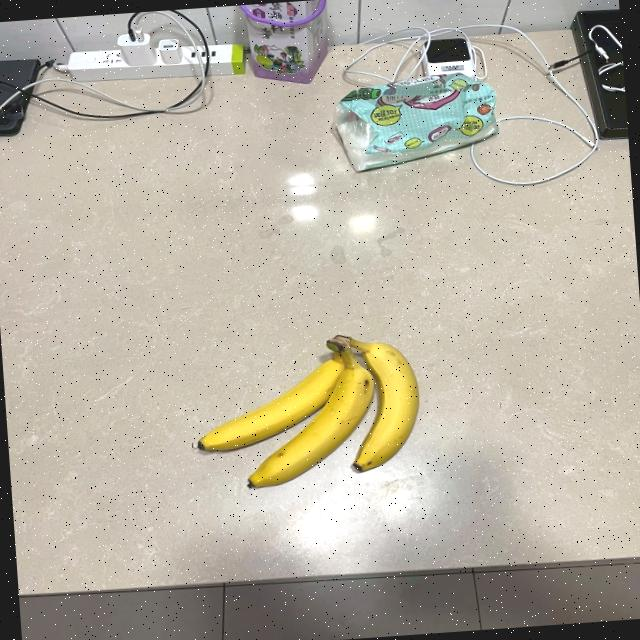banana: (104, 252, 512, 549), (163, 308, 447, 516), (225, 329, 398, 497), (180, 340, 346, 470), (336, 320, 435, 482)
